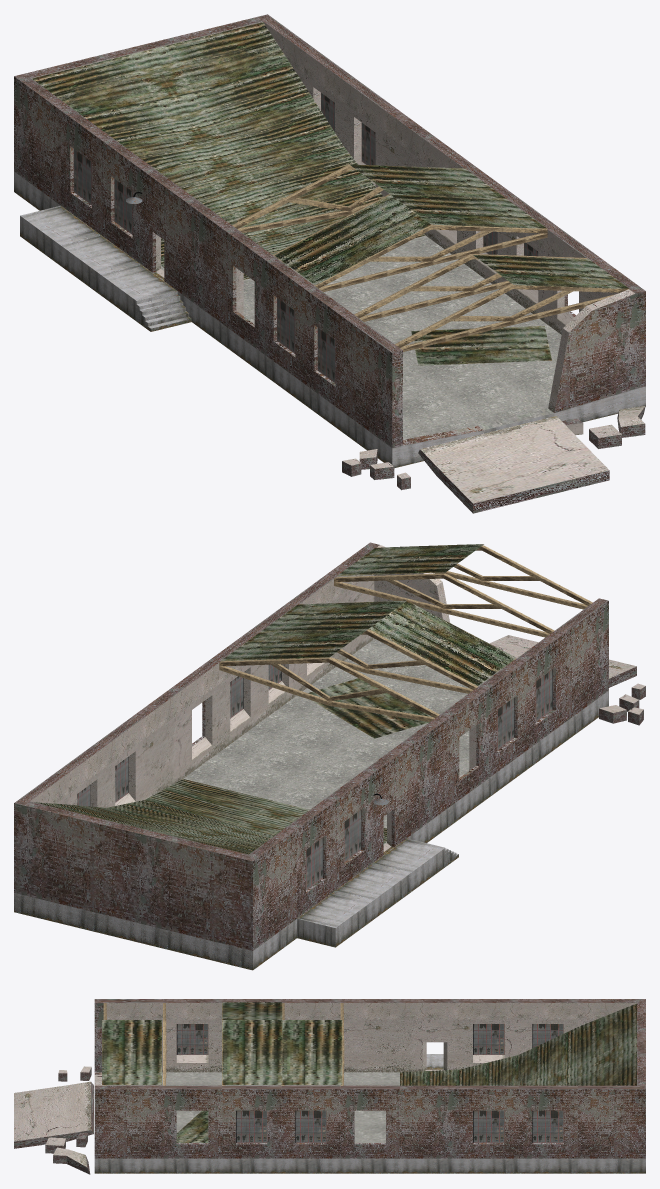
The model's file is crackfactjump_sfs.obj.
3 views of the same model, one above another, from view 1: azimuth 30°, elevation 25°; view 2: azimuth 150°, elevation 25°; view 3: azimuth 270°, elevation 25° (orthographic). The views are drawn at different scales.
Visible parts, largest first — view 1: crackfactjump_SFS; view 2: crackfactjump_SFS; view 3: crackfactjump_SFS.
Boxes of the visible parts, x1=… form: crackfactjump_SFS: x1=14, y1=14, x2=645, y2=513; crackfactjump_SFS: x1=14, y1=542, x2=645, y2=970; crackfactjump_SFS: x1=14, y1=999, x2=645, y2=1174.
Size of the model in its own units: 17.94 by 9.28 by 45.66.
Materials: 11 (11 with a texture image).
